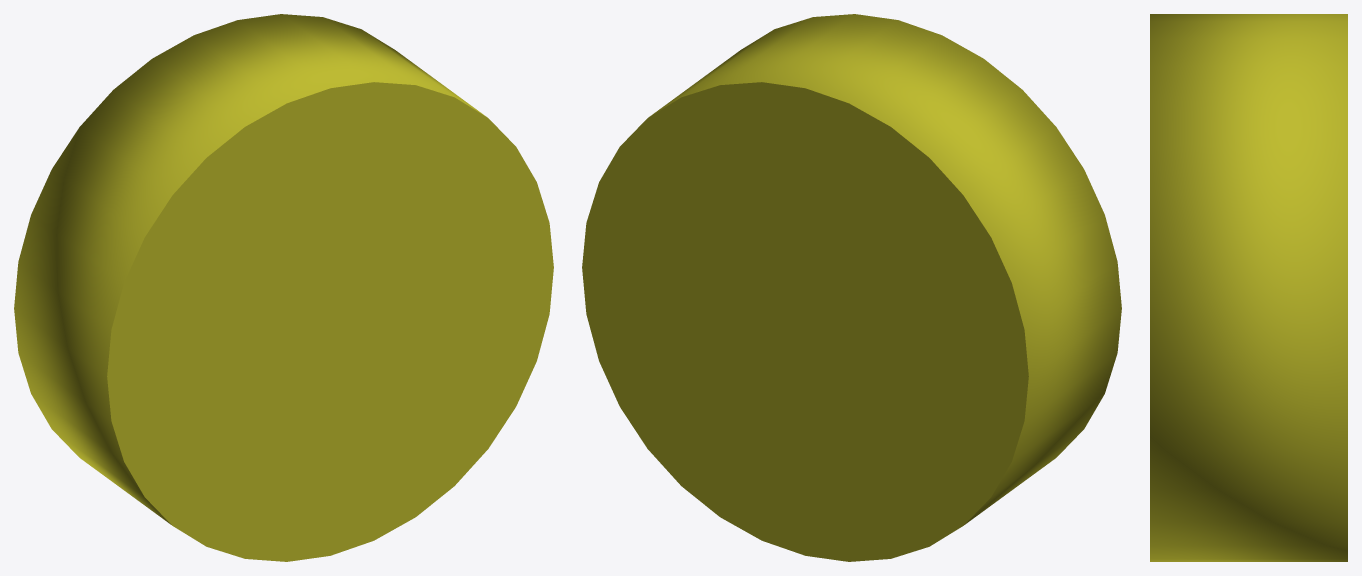
The model's file is Collectible_0.fbx.
3 views of the same model, side by side, from view 1: azimuth 30°, elevation 25°; view 2: azimuth 150°, elevation 25°; view 3: azimuth 270°, elevation 25° (orthographic). The views are drawn at different scales.
Visible parts, largest first — view 1: Collectible_0; view 2: Collectible_0; view 3: Collectible_0.
Boxes of the visible parts, x1,y1,x2,y2 form: Collectible_0: (14, 14, 553, 561); Collectible_0: (582, 14, 1121, 561); Collectible_0: (1150, 14, 1347, 561).
Size of the model in its own units: 0.4158 by 0.15 by 0.4158.
